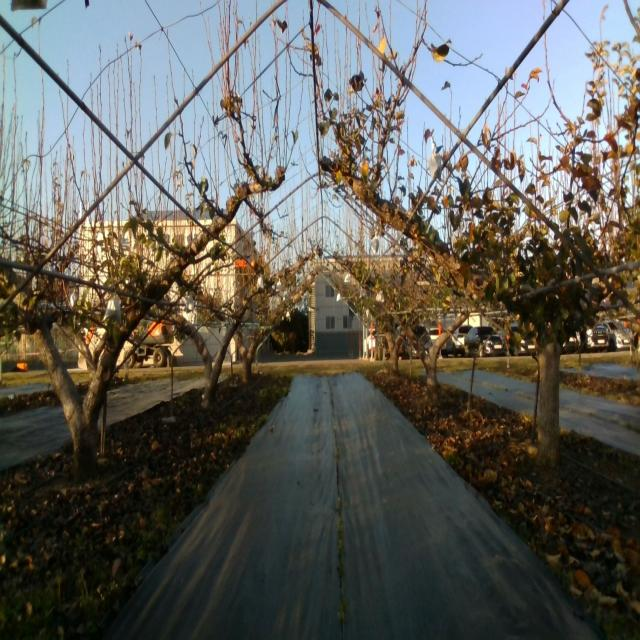pearbags: (104, 295, 122, 327), (429, 153, 442, 183)
